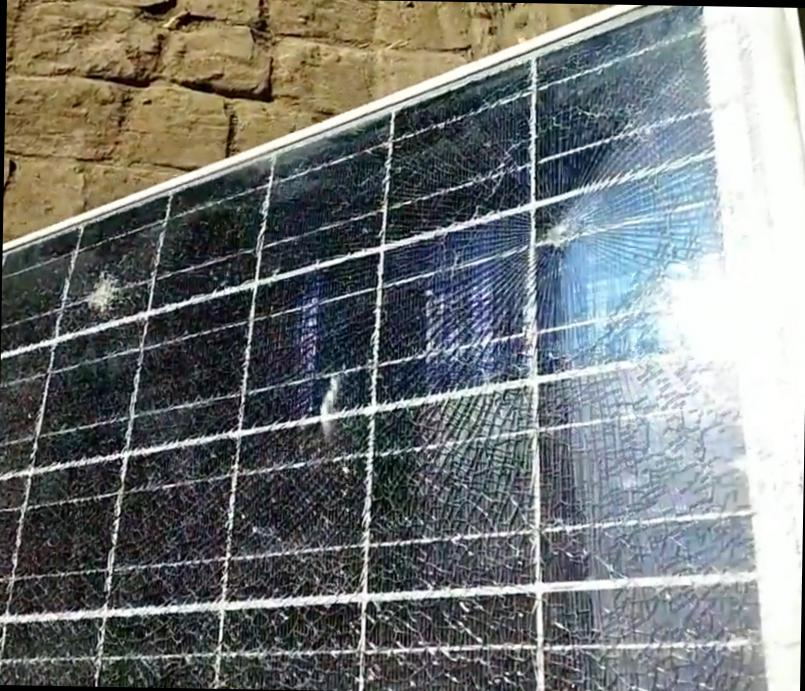Crack: (411, 121, 754, 426), (540, 583, 764, 690), (360, 591, 531, 690), (221, 604, 351, 690), (100, 612, 206, 688), (68, 250, 148, 334)
